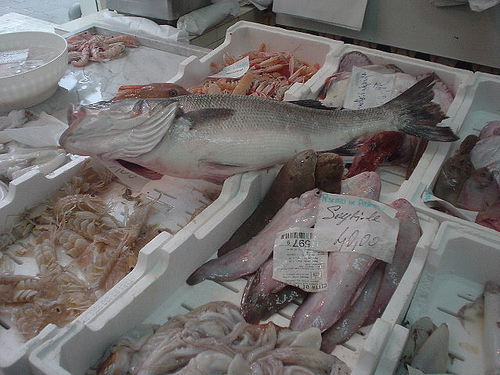fish: (56, 68, 463, 192)
